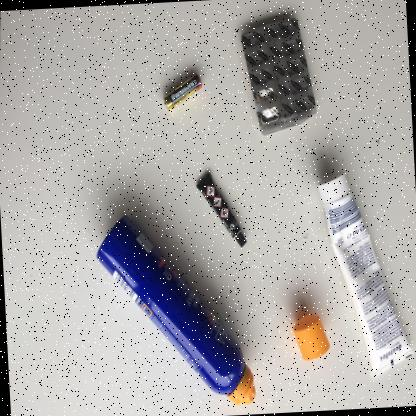Aerosol: (96, 214, 255, 405)
Aluminium blister pack: (241, 17, 317, 135)
Battery: (163, 73, 202, 111)
Plastic bottle cap: (293, 314, 330, 360), (317, 170, 350, 203)
Squeezable tube: (317, 170, 413, 378), (196, 172, 246, 247)
